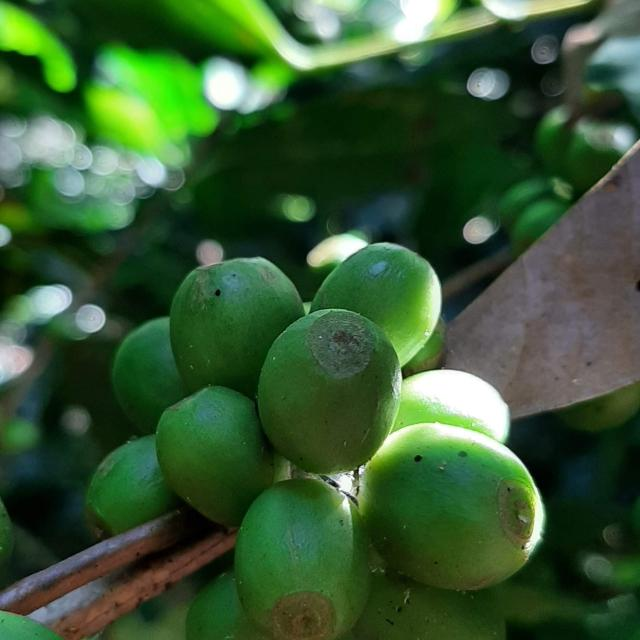green: (358, 423, 545, 592), (257, 309, 403, 475), (235, 480, 371, 640), (169, 257, 303, 398), (156, 386, 274, 527), (311, 243, 441, 366), (84, 436, 180, 538), (111, 317, 187, 436), (393, 370, 511, 443)
